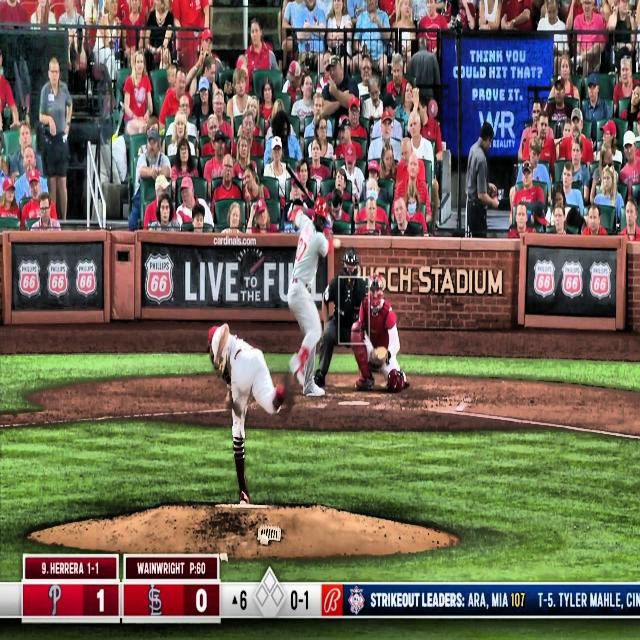baseball: (332, 237, 342, 250)
